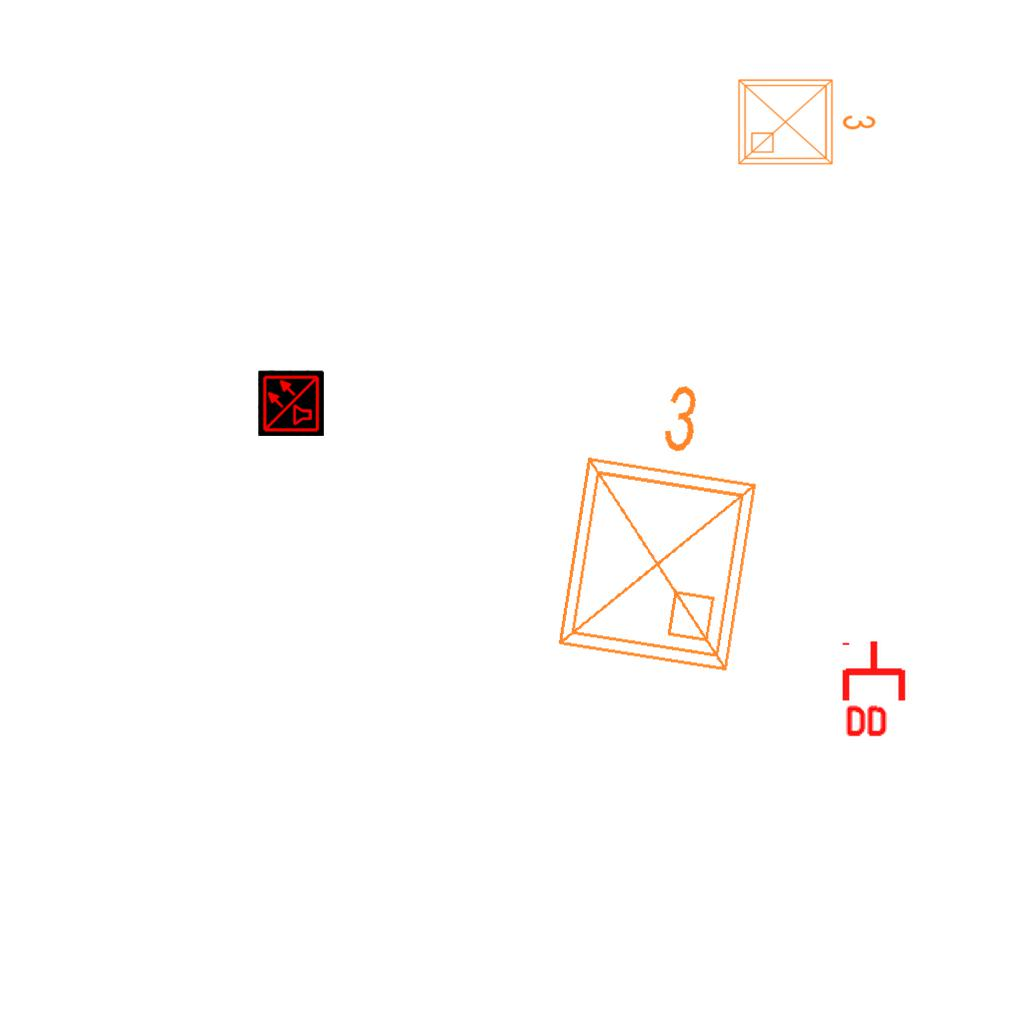Datenanschluss_zweifach: (841, 638, 910, 741)
Einbaudownlights_LED_Konferenzraeume: (533, 358, 787, 688), (731, 68, 881, 172)
OKW_Multisensormelder_(Kombination_optischer_Rauch-Kahlenmonoxid_Waerme-Melder): (258, 370, 324, 436)
